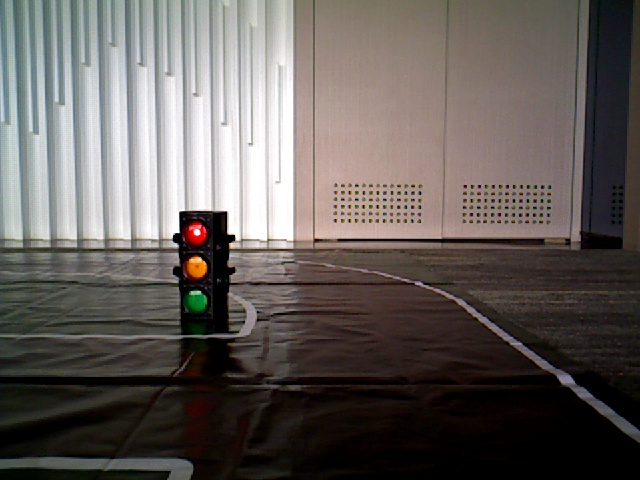red: (179, 216, 216, 317)
